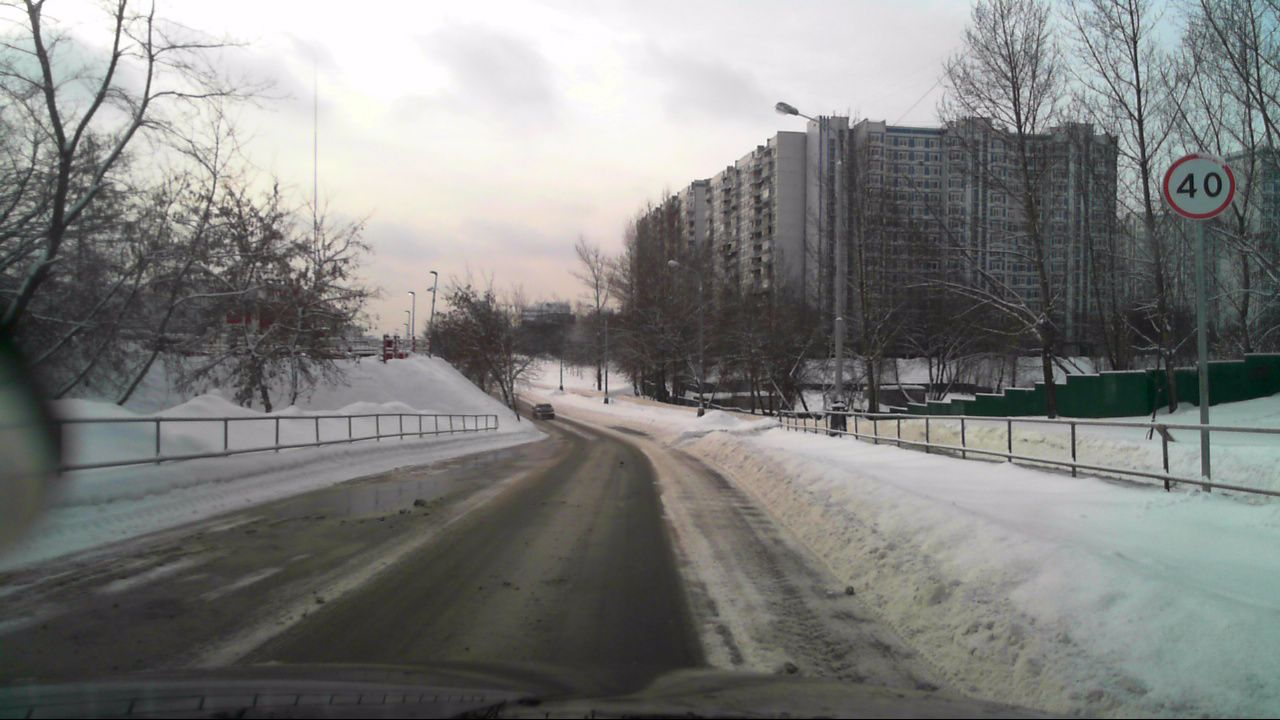speed_warning_40: (1163, 151, 1232, 222)
